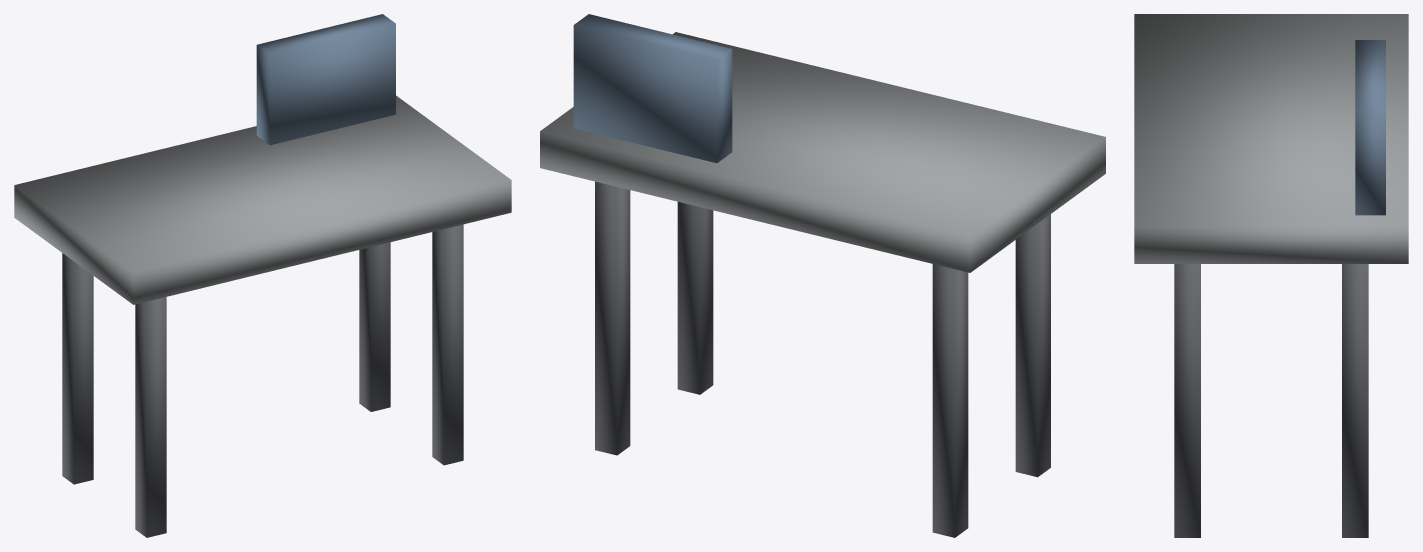
Rendered from welding_table__compact.glb.
3 views of the same model, side by side, from view 1: azimuth 30°, elevation 25°; view 2: azimuth 150°, elevation 25°; view 3: azimuth 270°, elevation 25° (orthographic). The views are drawn at different scales.
Visible parts, largest first — view 1: world; view 2: world; view 3: world.
Boxes of the visible parts, x1,y1,x2,y2 form: world: (14, 14, 511, 537); world: (540, 14, 1105, 537); world: (1134, 14, 1408, 537).
Bounding box in the file's own units: 1.13 × 1.08 × 0.6192.
